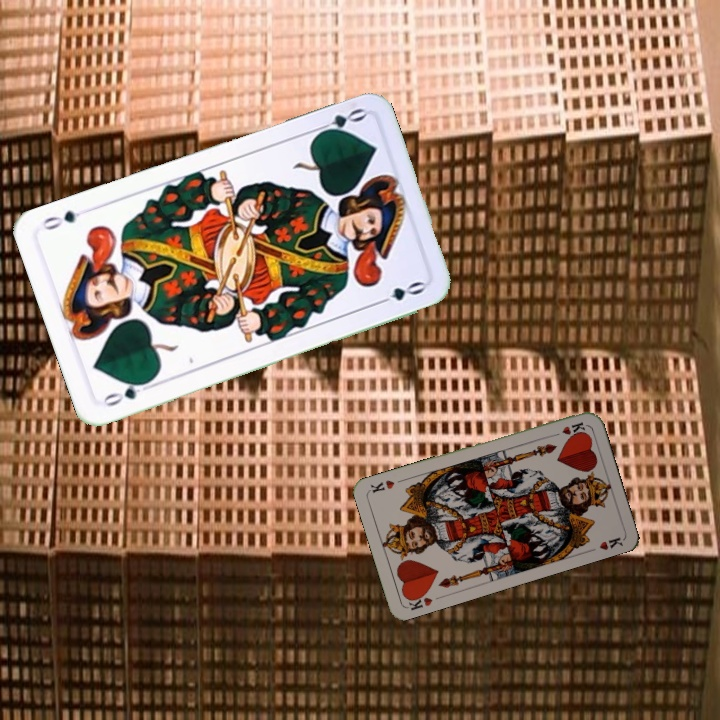GO: (310, 104, 368, 139), (99, 376, 156, 409)
HK: (548, 418, 588, 439), (403, 588, 435, 613)
